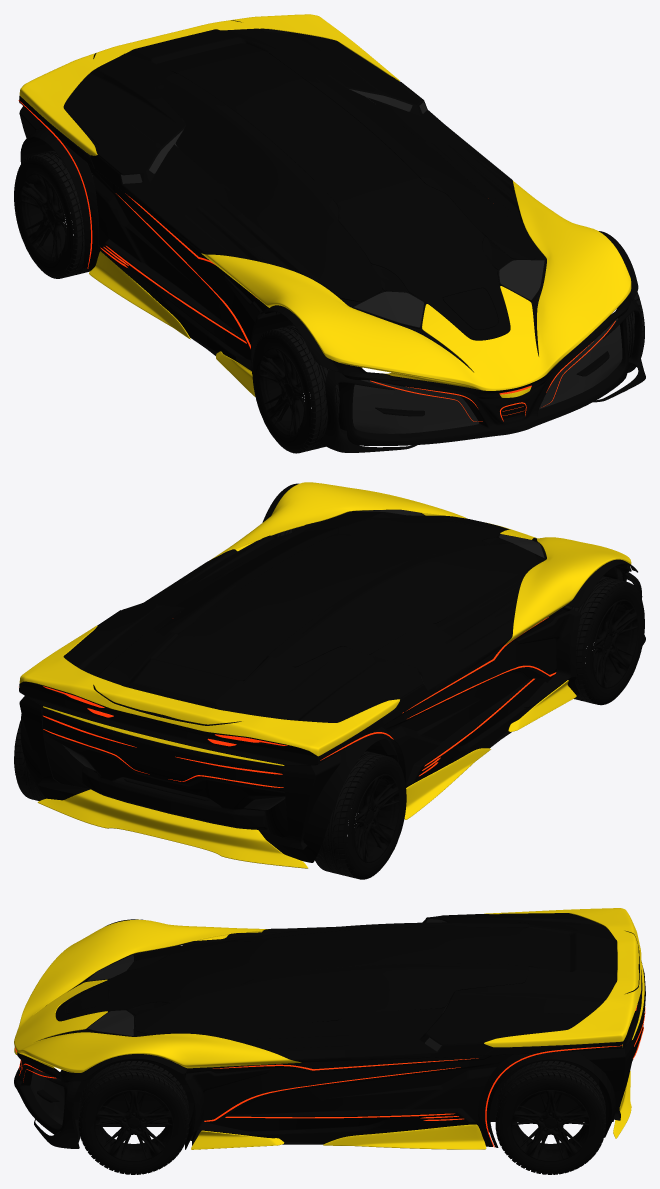
The model's file is concept-050.glb.
3 renders of one model, top to bottom at view 1: azimuth 30°, elevation 25°; view 2: azimuth 150°, elevation 25°; view 3: azimuth 270°, elevation 25°, orthographic. The views are drawn at different scales.
Parts seen in each view (by area): view 1: Cube.003_glass_0, Cube.006_body_0, Cube.002_glass_0, Cube.042_plastic_smooth_0, tire_001_R17.001_tire_protector_0 (×2), Cube_plastic_smooth_0, Cube.040_plastic_smooth_0, Cube.026_plastic_smooth_0, Cube.023_grill_0, Cube.011_body_0, Cube.004_grill_0, Cube.025_plastic_smooth_0 (+10 smaller); view 2: Cube.003_glass_0, Cube.042_plastic_smooth_0, Cube.002_glass_0, tire_001_R17.001_tire_protector_0 (×3), Cube.018_plastic_smooth_0, Cube.040_plastic_smooth_0, Cube_plastic_smooth_0, Cube.011_body_0, Cube.006_body_0, Cube.010_body_0, Cube.039_plastic_smooth_0, Cube.009_plastic_smooth_0 (+12 smaller); view 3: Cube.040_plastic_smooth_0, Cube.003_glass_0, tire_001_R17.001_tire_protector_0 (×2), Cube.002_glass_0, Cube.006_body_0, Cube.042_plastic_smooth_0, Cube_plastic_smooth_0, Cube.011_body_0, Cube.047_blocker_0, Cube.007_body_0, Cube.001_plastic_smooth_0, Cube.039_plastic_smooth_0 (+14 smaller).
Part boxes in pixels (bbox=[...]): Cube.003_glass_0: bbox=[156, 43, 510, 340]; Cube.006_body_0: bbox=[201, 181, 631, 397]; Cube.002_glass_0: bbox=[155, 49, 537, 301]; Cube.042_plastic_smooth_0: bbox=[63, 28, 423, 175]; tire_001_R17.001_tire_protector_0 (×2): bbox=[14, 150, 339, 453]; Cube_plastic_smooth_0: bbox=[90, 81, 526, 311]; Cube.040_plastic_smooth_0: bbox=[62, 134, 524, 366]; Cube.026_plastic_smooth_0: bbox=[338, 308, 628, 445]; Cube.023_grill_0: bbox=[352, 318, 622, 433]; Cube.011_body_0: bbox=[19, 14, 399, 155]; Cube.004_grill_0: bbox=[353, 260, 544, 327]; Cube.025_plastic_smooth_0: bbox=[321, 299, 645, 452]; Cube.003_glass_0: bbox=[156, 515, 509, 680]; Cube.042_plastic_smooth_0: bbox=[63, 602, 423, 722]; Cube.002_glass_0: bbox=[156, 511, 537, 667]; tire_001_R17.001_tire_protector_0 (×3): bbox=[14, 576, 644, 879]; Cube.018_plastic_smooth_0: bbox=[42, 707, 285, 829]; Cube.040_plastic_smooth_0: bbox=[154, 535, 562, 787]; Cube_plastic_smooth_0: bbox=[95, 521, 565, 712]; Cube.011_body_0: bbox=[19, 625, 399, 765]; Cube.006_body_0: bbox=[211, 482, 631, 644]; Cube.010_body_0: bbox=[37, 789, 308, 868]; Cube.039_plastic_smooth_0: bbox=[20, 707, 406, 862]; Cube.009_plastic_smooth_0: bbox=[19, 681, 318, 765]; Cube.040_plastic_smooth_0: bbox=[186, 1053, 549, 1143]; Cube.003_glass_0: bbox=[55, 927, 570, 1021]; tire_001_R17.001_tire_protector_0 (×2): bbox=[78, 1061, 605, 1174]; Cube.002_glass_0: bbox=[135, 922, 528, 1035]; Cube.006_body_0: bbox=[14, 919, 300, 1072]; Cube.042_plastic_smooth_0: bbox=[425, 913, 616, 1044]; Cube_plastic_smooth_0: bbox=[176, 914, 492, 1068]; Cube.011_body_0: bbox=[484, 908, 644, 1047]; Cube.047_blocker_0: bbox=[45, 913, 622, 1146]; Cube.007_body_0: bbox=[323, 1124, 486, 1149]; Cube.001_plastic_smooth_0: bbox=[185, 1069, 269, 1149]; Cube.039_plastic_smooth_0: bbox=[487, 1051, 615, 1147].
Size of the model in its own units: 2.34 by 1.23 by 4.37.
12 materials, 2 textured.
